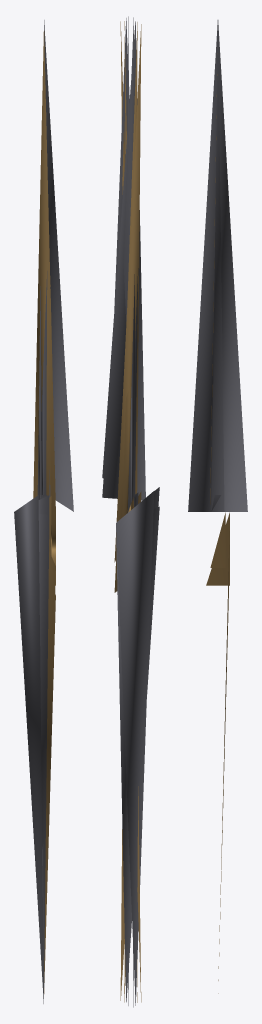
File: equip_weapon_black_scimitar.glb
3 renders of one model, left to right at view 1: azimuth 90°, elevation 25°; view 2: azimuth 150°, elevation 25°; view 3: azimuth 270°, elevation 25°, orthographic.
Parts seen in each view (by area): view 1: equip_weapon_black_scimitar; view 2: equip_weapon_black_scimitar; view 3: equip_weapon_black_scimitar.
Boxes of the visible parts, x1=… form: equip_weapon_black_scimitar: x1=14, y1=20, x2=73, y2=1003; equip_weapon_black_scimitar: x1=102, y1=16, x2=159, y2=1007; equip_weapon_black_scimitar: x1=188, y1=20, x2=247, y2=993.
Bounding box in the file's own units: 0.11 × 2 × 0.11.
